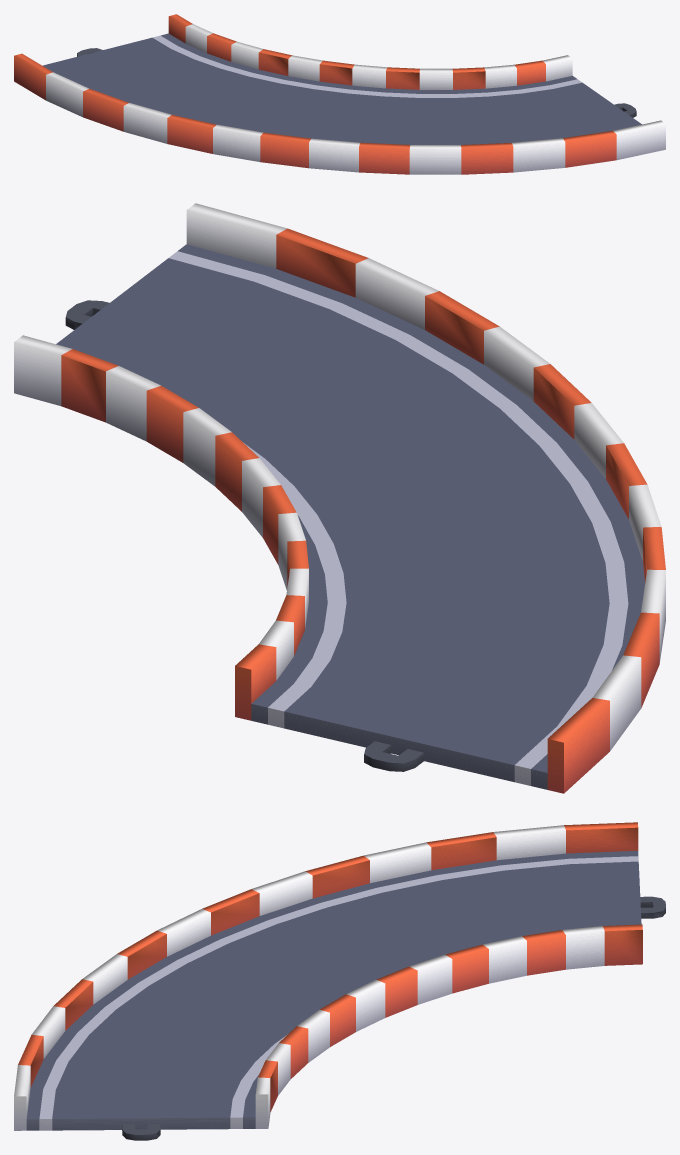
Rendered from track-road-wide-corner-large.010_lev2.glb.
3 views of the same model, one above another, from view 1: azimuth 30°, elevation 25°; view 2: azimuth 150°, elevation 25°; view 3: azimuth 270°, elevation 25° (orthographic). The views are drawn at different scales.
Visible parts, largest first — view 1: track-road-wide-corner-large.010_lev2; view 2: track-road-wide-corner-large.010_lev2; view 3: track-road-wide-corner-large.010_lev2.
Boxes of the visible parts, x1=… form: track-road-wide-corner-large.010_lev2: x1=14, y1=14, x2=665, y2=174; track-road-wide-corner-large.010_lev2: x1=14, y1=203, x2=665, y2=793; track-road-wide-corner-large.010_lev2: x1=14, y1=822, x2=665, y2=1140.
Bounding box in the file's own units: 5.28 × 0.3 × 5.12.
1 material, 1 textured.
